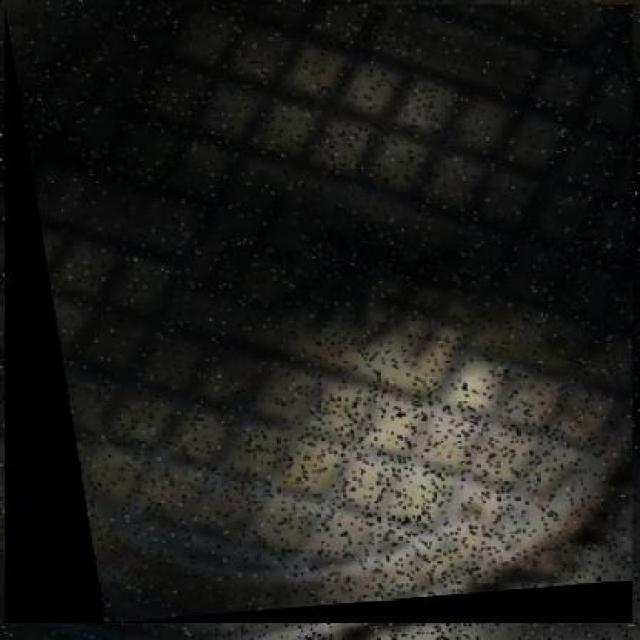Manhole: (5, 4, 632, 624)
